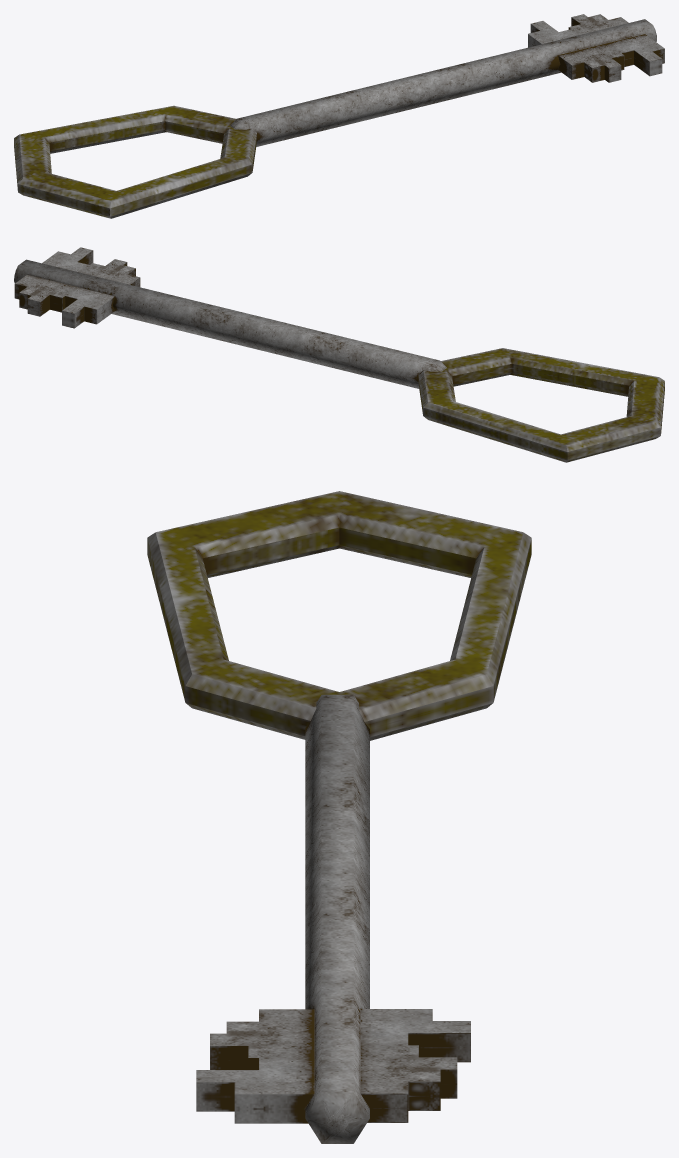
The model's file is Kunci-3.fbx.
3 renders of one model, top to bottom at view 1: azimuth 30°, elevation 25°; view 2: azimuth 150°, elevation 25°; view 3: azimuth 270°, elevation 25°, orthographic. The views are drawn at different scales.
Parts seen in each view (by area): view 1: Plane.006, Cylinder.001, Plane.003, Plane.005; view 2: Plane.006, Cylinder.001, Plane.005, Plane.003; view 3: Plane.006, Cylinder.001, Plane.003, Plane.005.
Boxes of the visible parts, x1,y1,x2,y2 form: Plane.006: (14, 105, 256, 218); Cylinder.001: (230, 19, 656, 146); Plane.003: (558, 34, 664, 82); Plane.005: (528, 14, 628, 47); Plane.006: (418, 348, 664, 462); Cylinder.001: (14, 259, 446, 388); Plane.005: (14, 275, 114, 328); Plane.003: (42, 247, 140, 287); Plane.006: (147, 491, 531, 740); Cylinder.001: (305, 694, 369, 1143); Plane.003: (196, 1009, 314, 1123); Plane.005: (360, 1009, 470, 1122).
Size of the model in its own units: 13.66 by 0.5196 by 3.58.
Materials: 1 (1 with a texture image).
